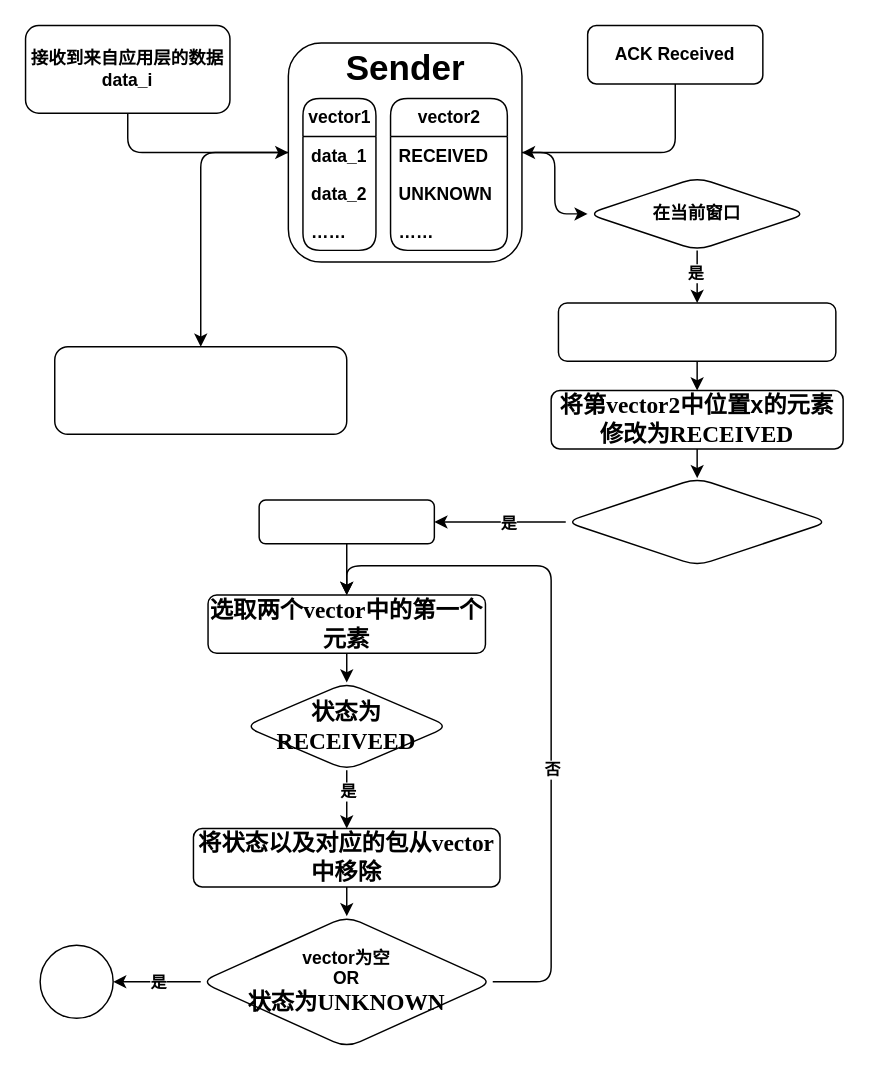
The diagram is 869 pixels wide and 1073 high, and some of its shapes have lost their labels. Each missing label, with the centre of its shape:
"ack.acknum == base?" belongs at (x=696, y=521).
"stop" belongs at (x=76, y=981).
"vector1.push_back(data_i) vector2.push_back(UNKNOWN)" belongs at (x=200, y=389).
"开始移动窗口" belongs at (x=346, y=521).
"计算ACK相对于base的距离x" belongs at (x=696, y=331).
